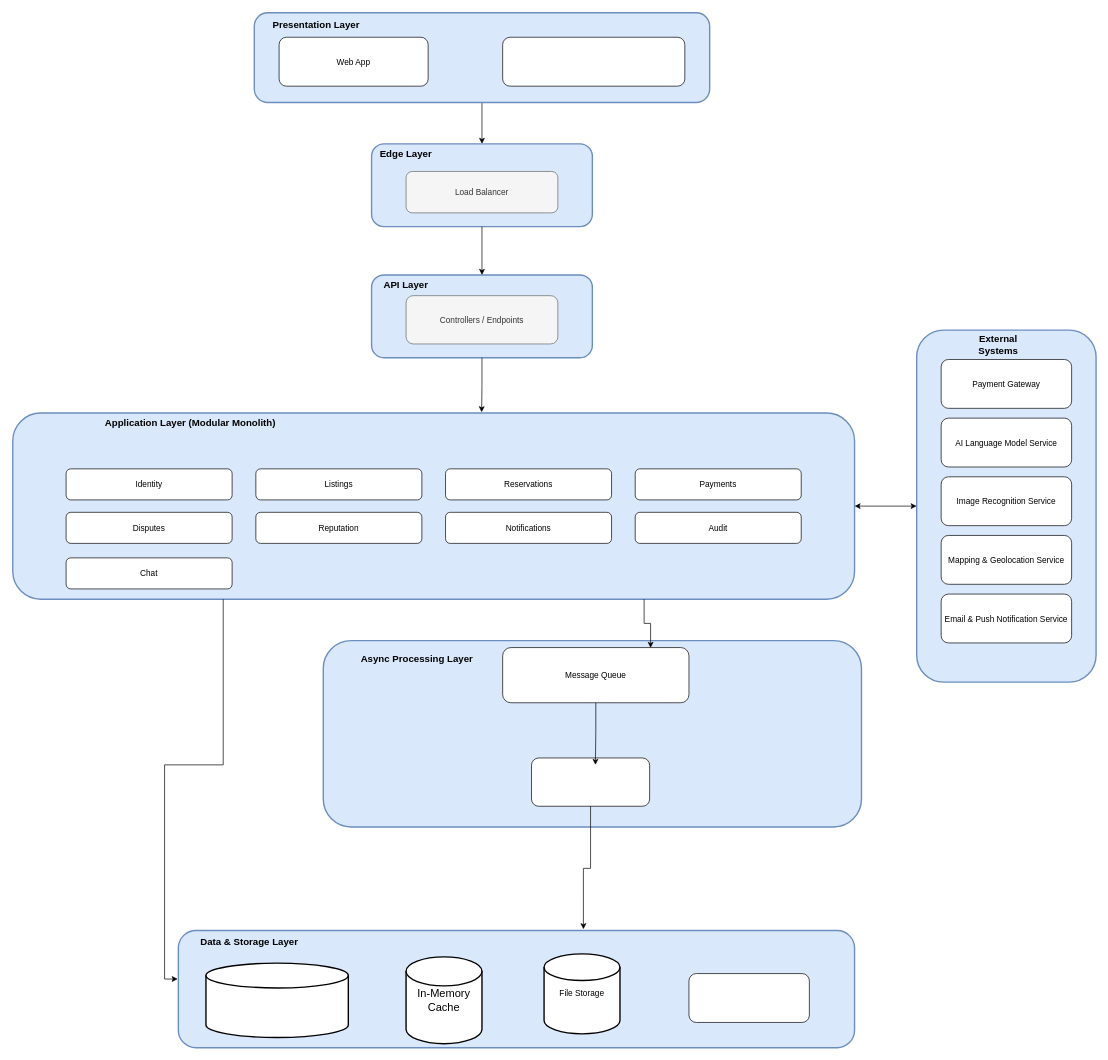
Some shapes in this 1108 by 1060 pixel diagram are drawn without their labels. The shapes that lost their labels are listed below. From the top down, each one's box as (x1, y1, x2, y2) in pixels, then its label:
(502, 37, 685, 86): Mobile App
(531, 757, 650, 806): Workers
(205, 962, 349, 1038): Relational Database
(688, 973, 809, 1022): Search Index Service
